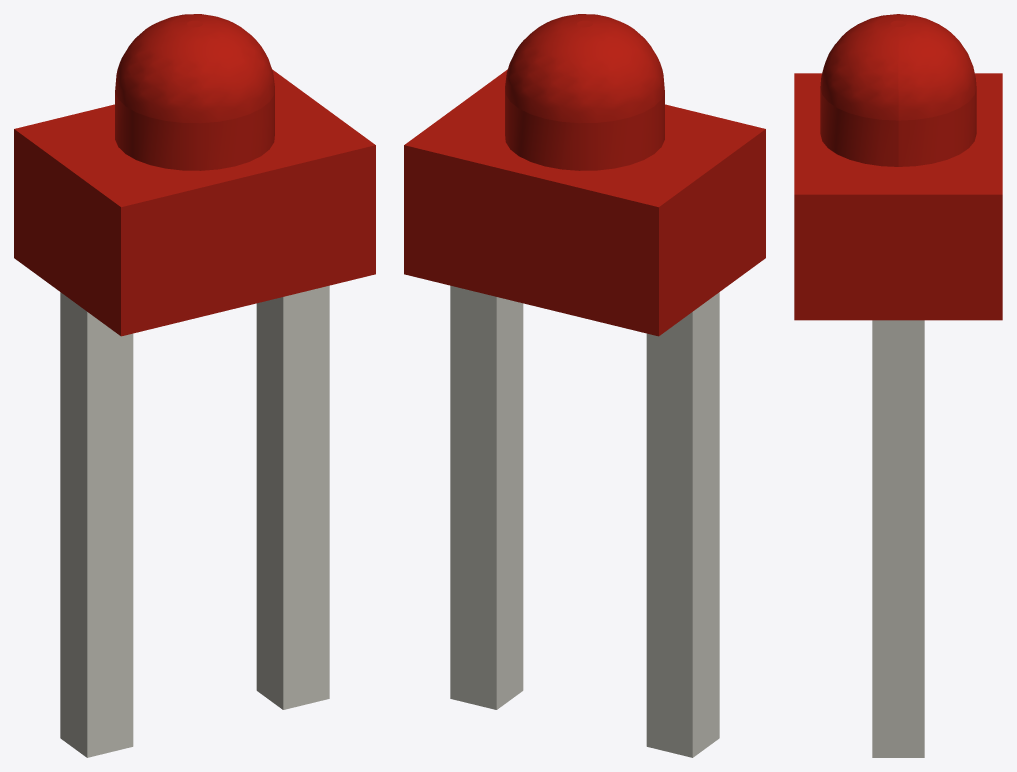
File: kc-led_d1.8mm_w3.3mm_h2.4mm.glb
The picture shows the model from 3 angles, left to right: view 1: azimuth 30°, elevation 25°; view 2: azimuth 150°, elevation 25°; view 3: azimuth 270°, elevation 25°; orthographic projection. The views are drawn at different scales.
Parts seen in each view (by area): view 1: 0.4166666666666667_0_0_0, 0.6666666666666666_0.6666666666666666_0.5833333333333334_0.8; view 2: 0.4166666666666667_0_0_0, 0.6666666666666666_0.6666666666666666_0.5833333333333334_0.8; view 3: 0.4166666666666667_0_0_0, 0.6666666666666666_0.6666666666666666_0.5833333333333334_0.8.
Boxes of the visible parts, x1,y1,x2,y2 form: 0.4166666666666667_0_0_0: (14, 14, 375, 336); 0.6666666666666666_0.6666666666666666_0.5833333333333334_0.8: (60, 285, 329, 757); 0.4166666666666667_0_0_0: (404, 14, 765, 336); 0.6666666666666666_0.6666666666666666_0.5833333333333334_0.8: (450, 285, 719, 757); 0.4166666666666667_0_0_0: (794, 14, 1002, 320); 0.6666666666666666_0.6666666666666666_0.5833333333333334_0.8: (872, 320, 924, 757).
Size of the model in its own units: 0.33 by 0.86 by 0.24.
